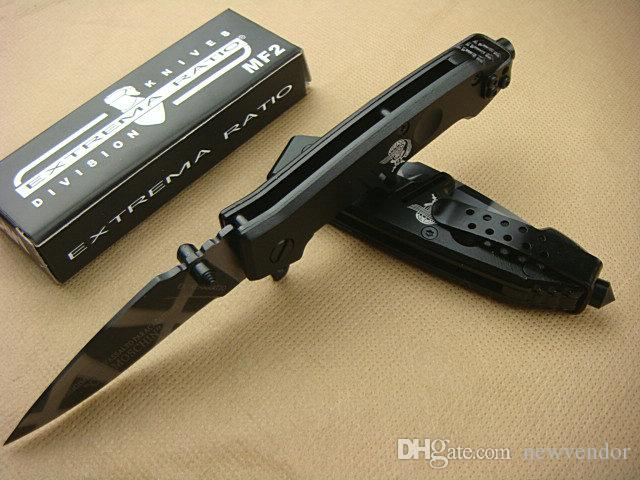knife: (1, 200, 301, 447)
